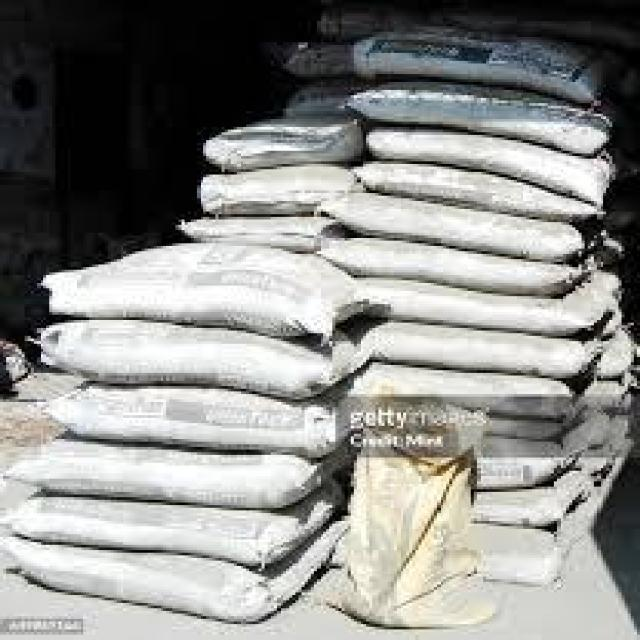gunny_bag: (0, 519, 331, 626), (37, 241, 377, 335), (34, 319, 379, 402), (7, 490, 326, 565), (349, 26, 627, 111), (31, 383, 355, 455), (10, 445, 342, 512), (345, 82, 616, 159), (360, 127, 618, 206), (318, 189, 590, 262), (355, 268, 624, 336), (310, 233, 591, 298), (348, 157, 605, 222), (374, 321, 602, 377), (201, 117, 359, 172), (193, 162, 354, 215), (175, 217, 339, 253)
